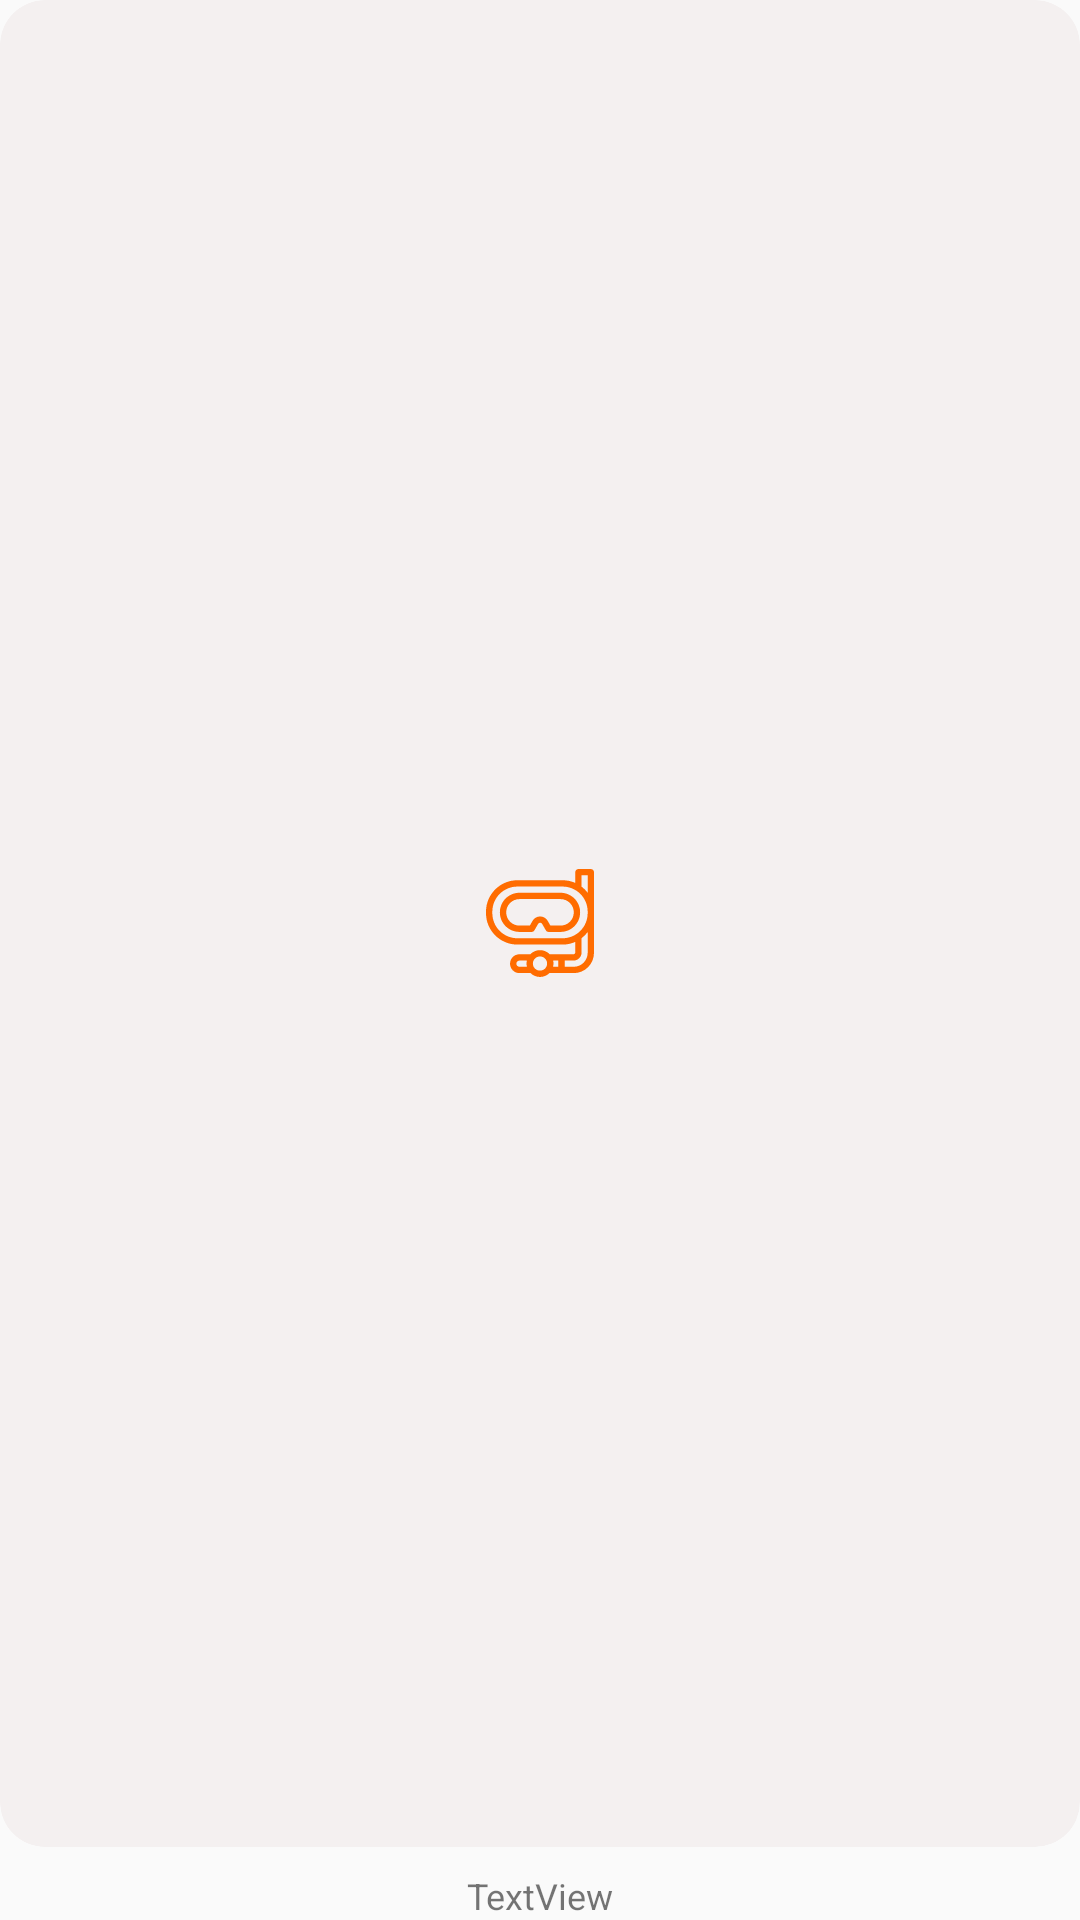

Where icons sit on this 1080px×1920px app screen, as {"left": x1, "top": y1, "right": x2, "bottom": y2}:
snorkeling: {"left": 486, "top": 869, "right": 594, "bottom": 977}
